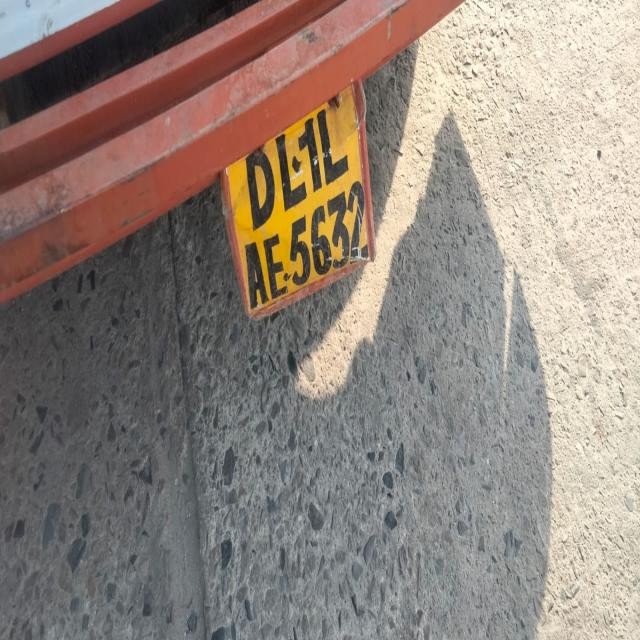License-plate: (224, 106, 379, 316)
